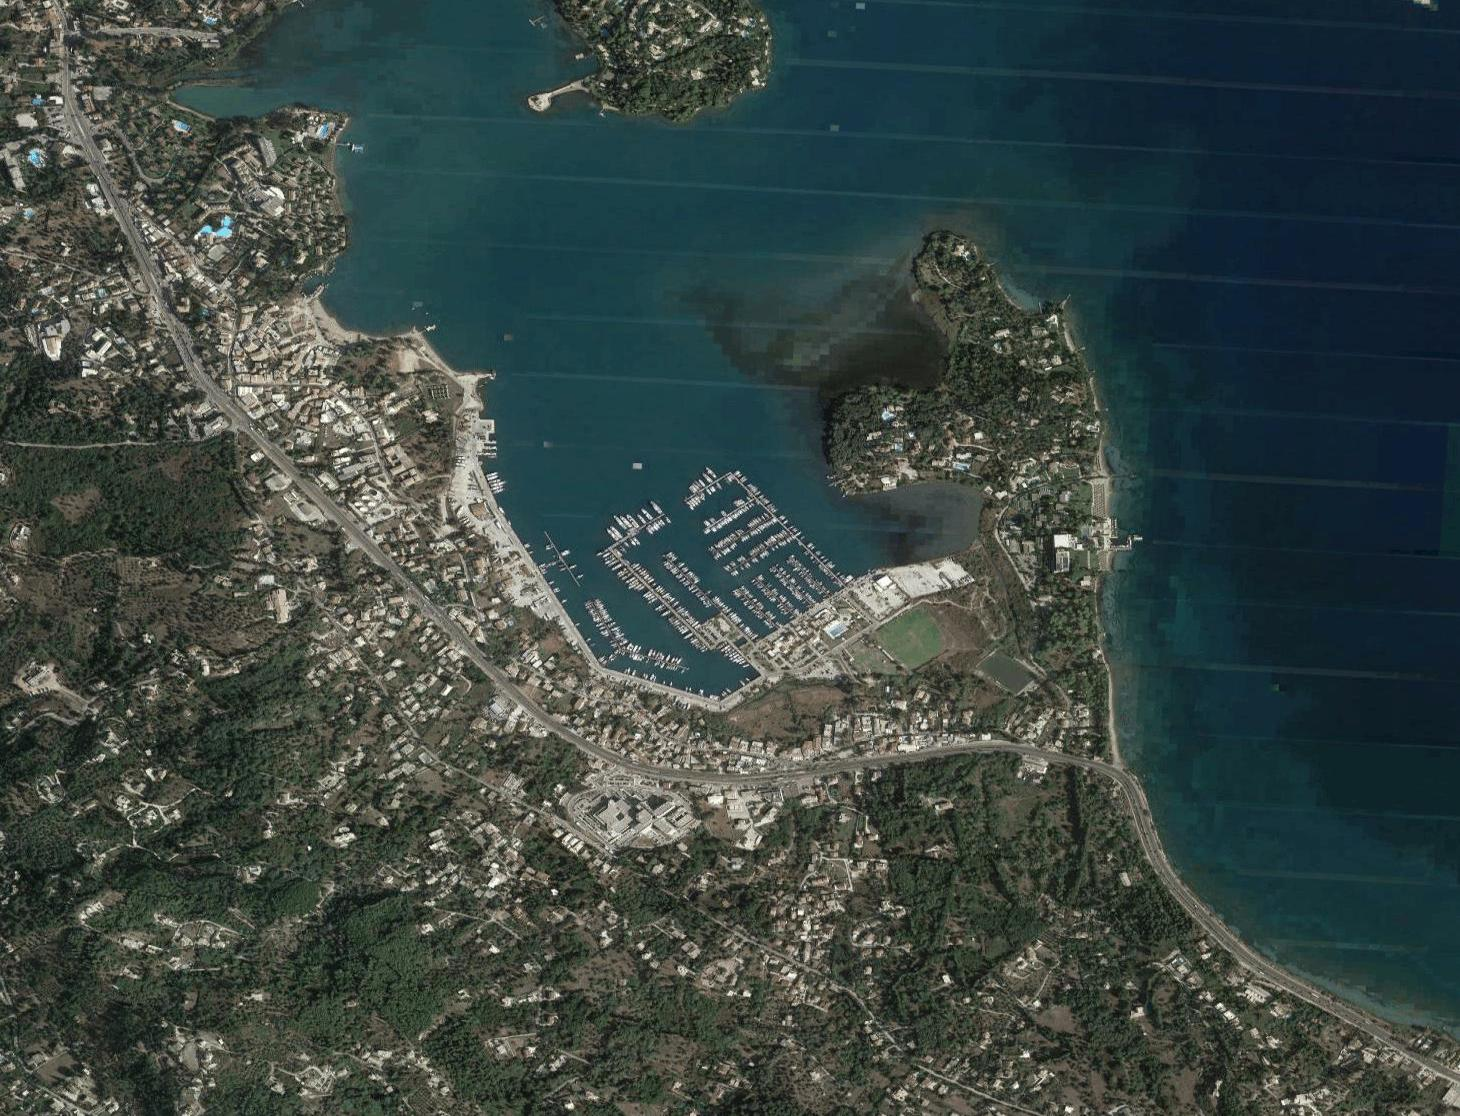harbor: (459, 368, 976, 723)
